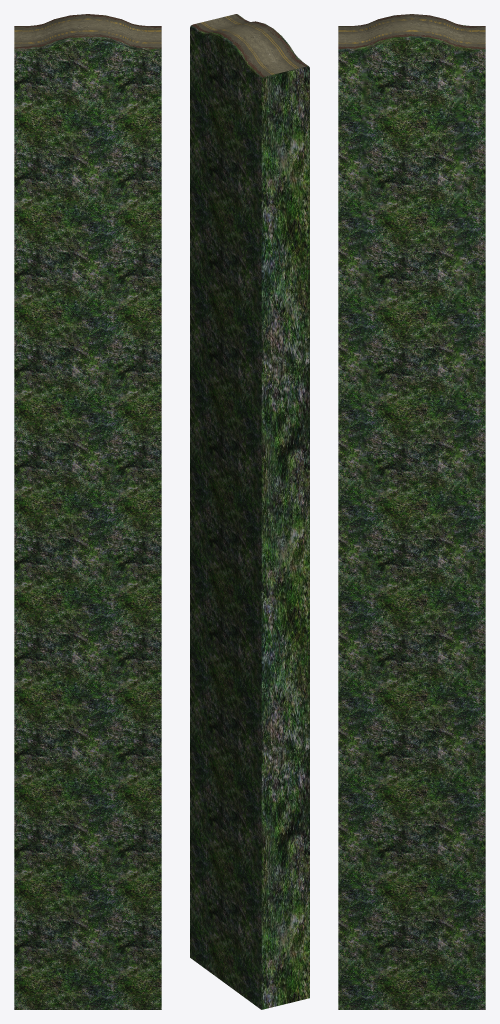
The model's file is Straight bend up.fbx.
The picture shows the model from 3 angles, left to right: view 1: azimuth 90°, elevation 25°; view 2: azimuth 210°, elevation 25°; view 3: azimuth 270°, elevation 25°; orthographic projection. The views are drawn at different scales.
Visible parts, largest first — view 1: Straight Ramp bend up; view 2: Straight Ramp bend up; view 3: Straight Ramp bend up.
Part boxes in pixels (<box>): Straight Ramp bend up: <box>14,14,161,1009</box>; Straight Ramp bend up: <box>190,14,309,1009</box>; Straight Ramp bend up: <box>338,14,485,1009</box>.
Size of the model in its own units: 410 by 7635 by 1047.
